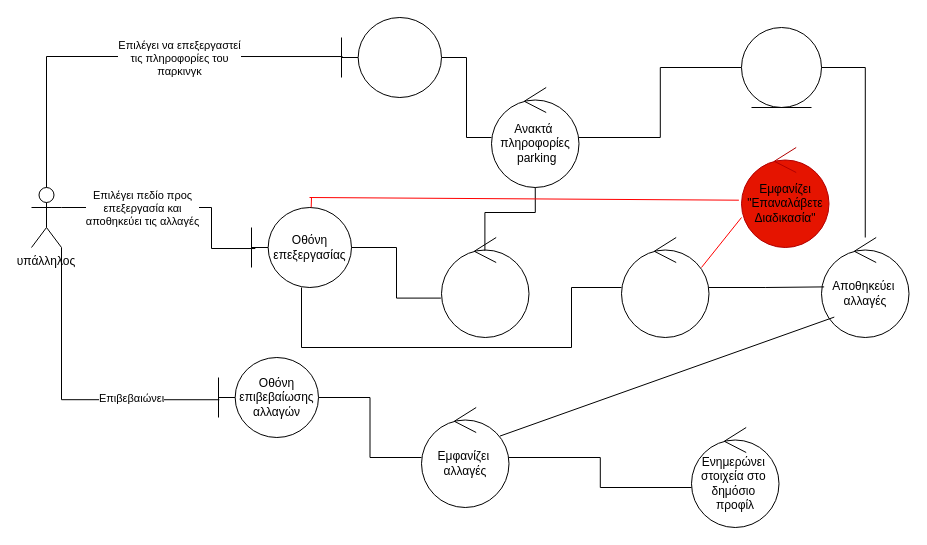
Image size: 927x545. Some labels were removed from this diagram. Each missing label, with the centre of its shape:
"Αρχική Οθόνη υπαλλήλου" belongs at [391,57].
"Βάση δεδομένων" belongs at [781,67].
"Ελέγχει για λάθη" belongs at [664,287].
"Εμφανίζει πληροφορίες parking" belongs at [484,287].
